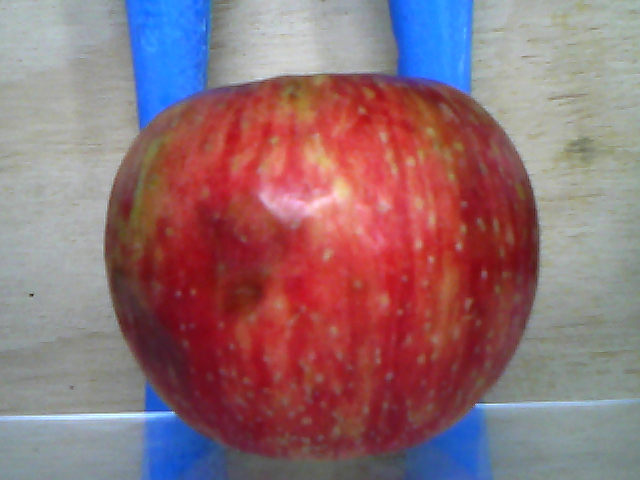bruise: (194, 193, 286, 317), (109, 279, 191, 409)
